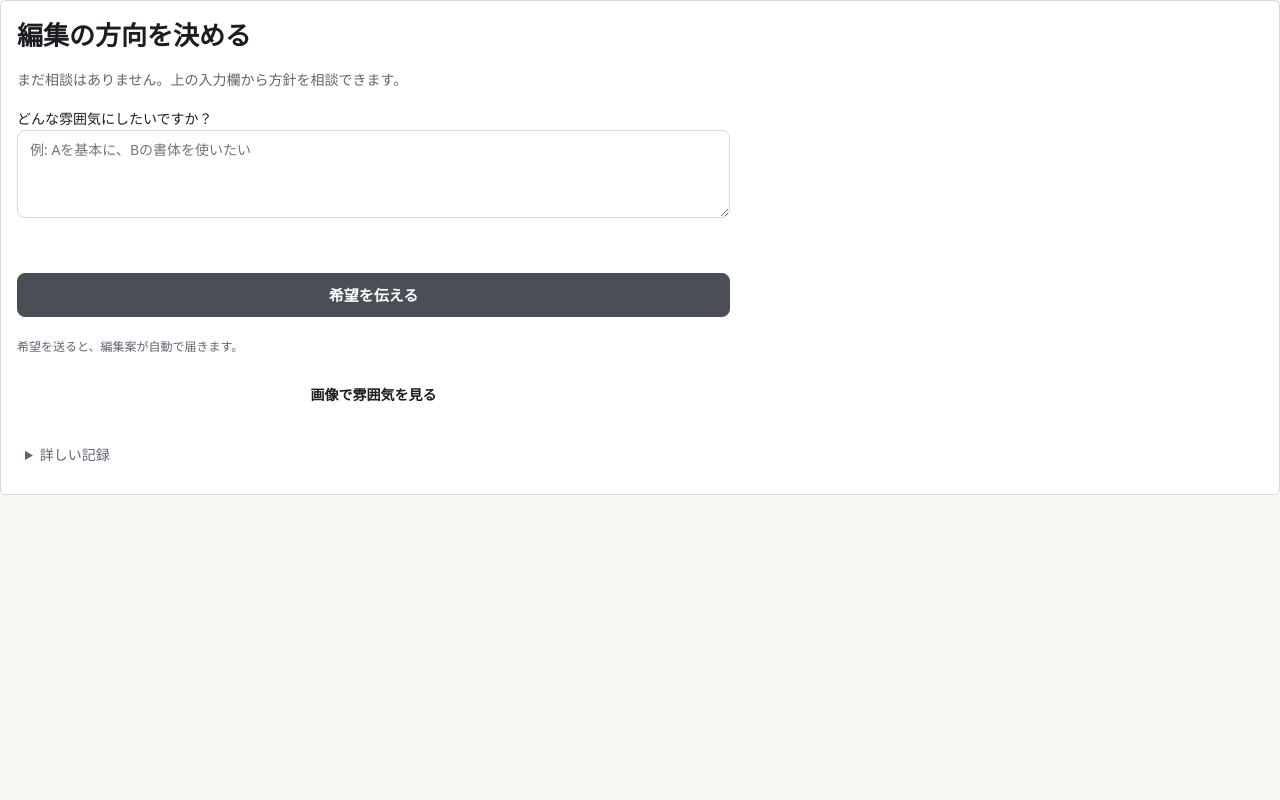
ConsultationPanel（UX 2.5 slice-1） › consultation-llm-unavailableは本番用AI実行環境が必要だと正直に言う
Check: the text "まだ相談はありません。上の入力欄から方針を相談できます。" is shown, box [17, 70, 407, 89]
Type "冒頭を引きから" into the text box with test id "consultation-message-input". click: (373, 174)
box: [17, 130, 730, 218]
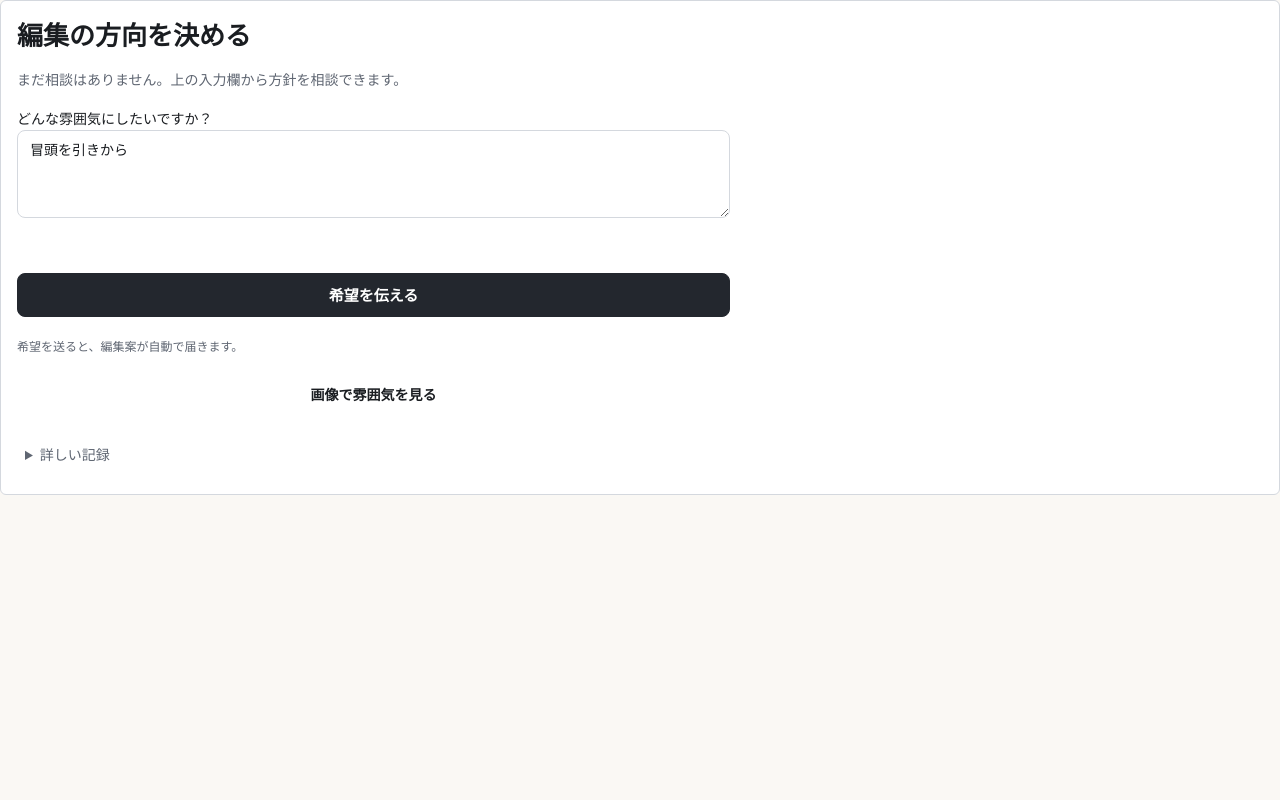
Click the button with test id "consultation-send". click: (373, 295)
box: [17, 273, 730, 317]
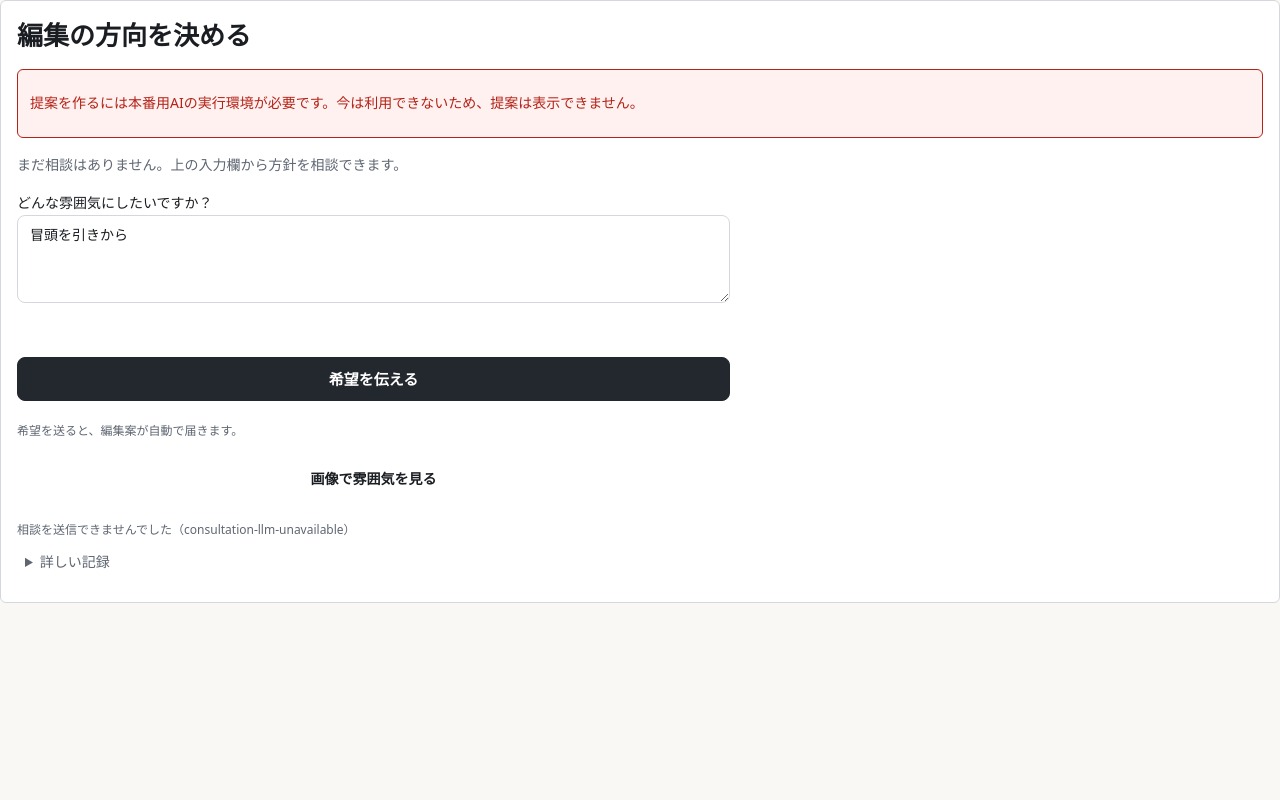
Check: the message "提案を作るには本番用AIの実行環境が必要です。今は利用できないため、提案は表示できません。" is shown, box [17, 69, 1263, 138]
Check: the message with test id "consultation-llm-unavailable" shows "本番用AIの実行環境が必要です", box [30, 93, 644, 112]
